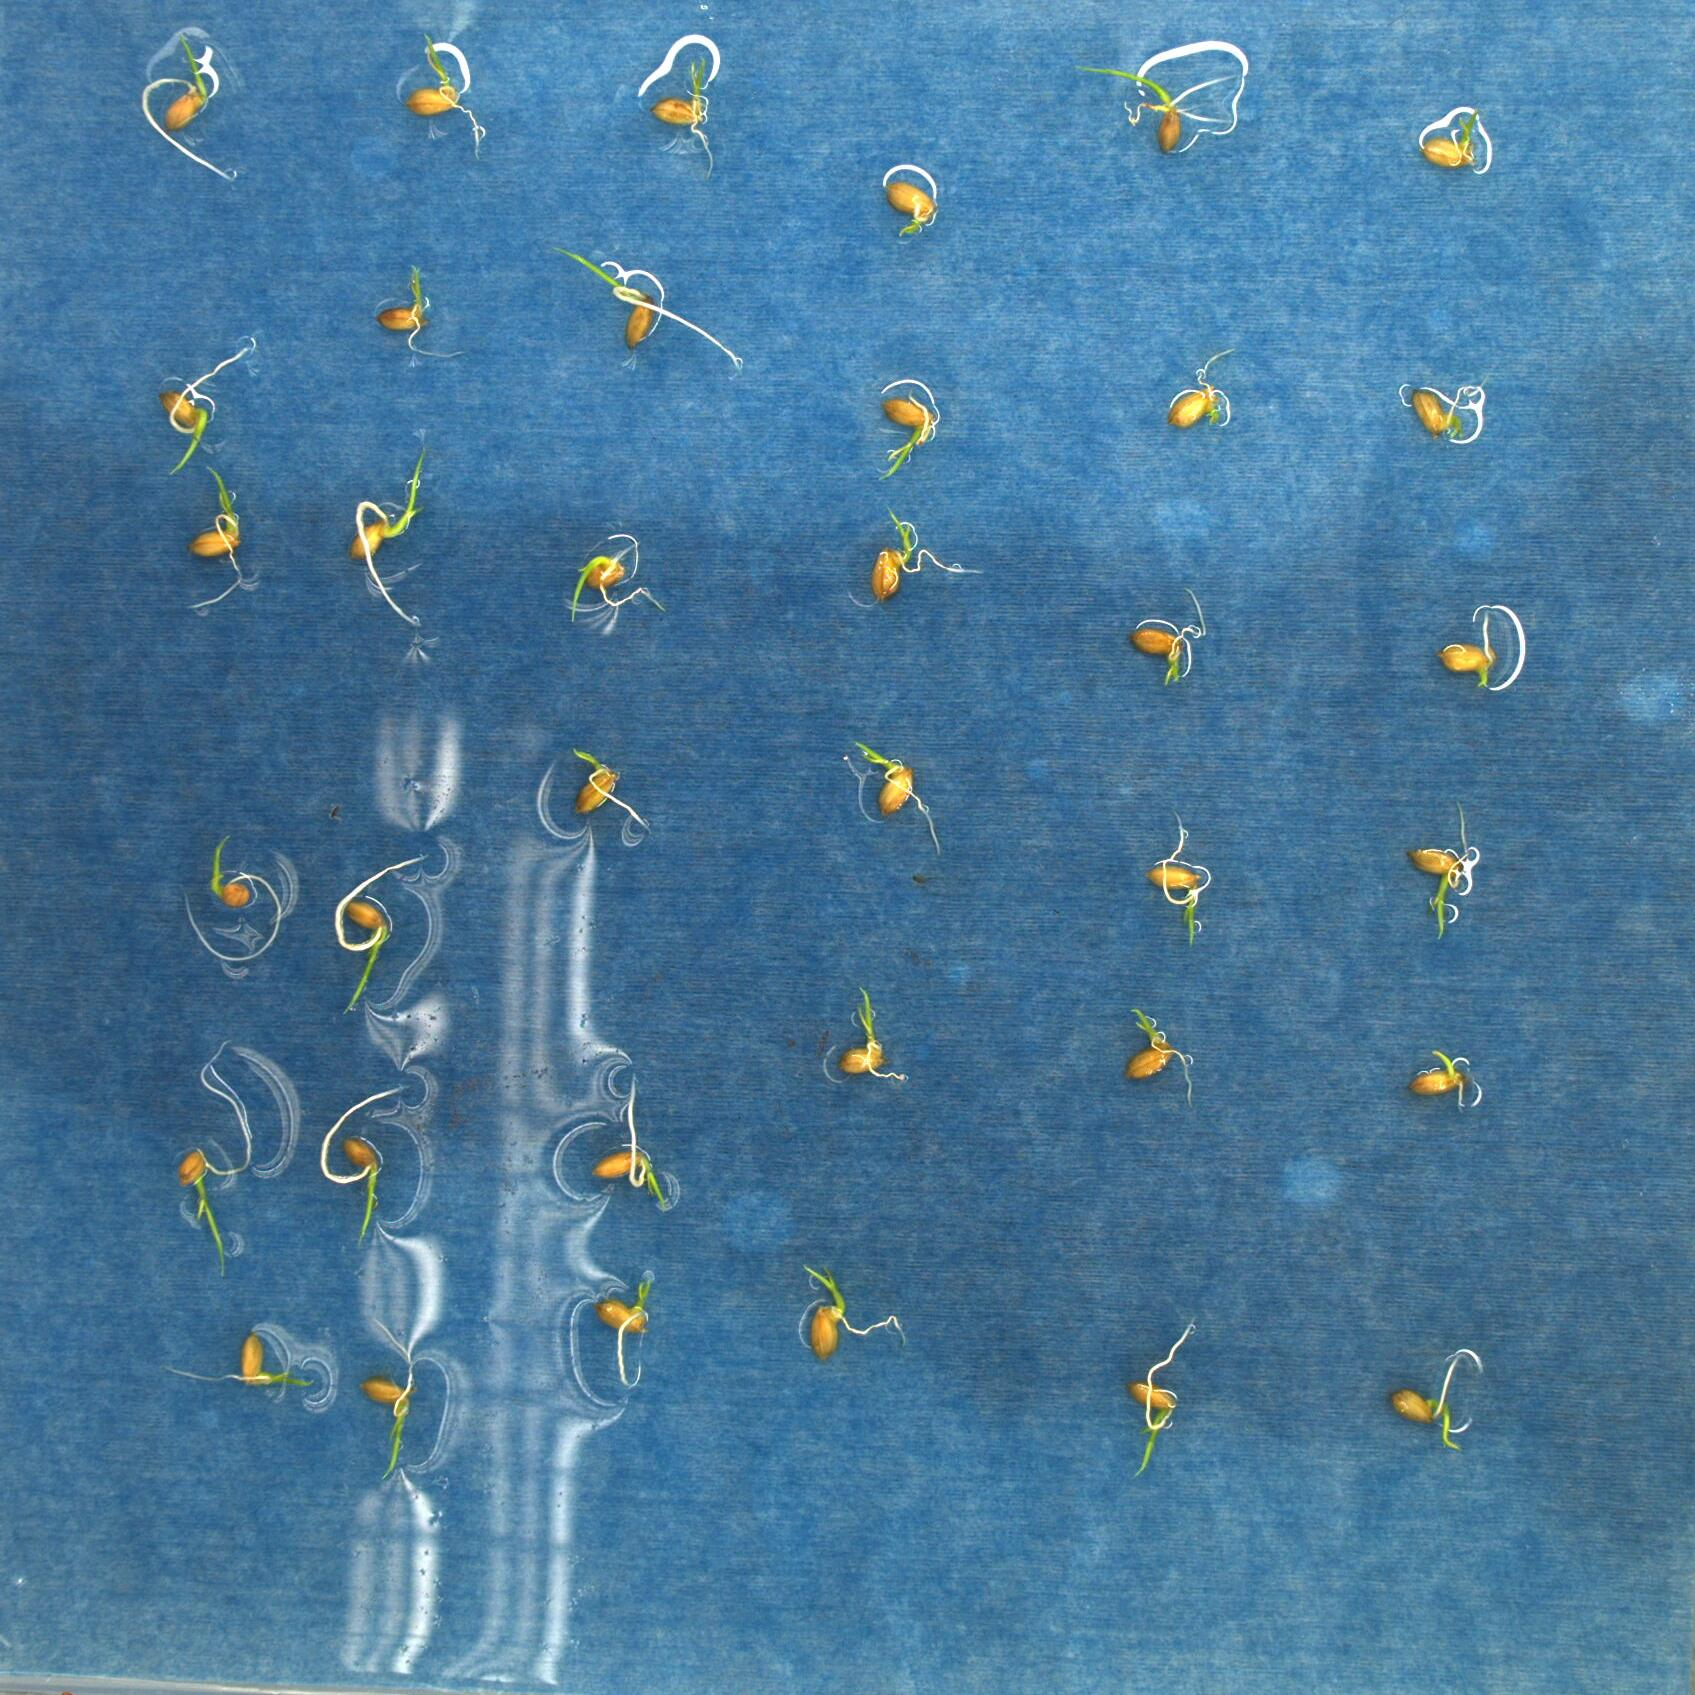sprout: (553, 244, 740, 366), (177, 1037, 251, 1281), (335, 854, 432, 1015), (348, 445, 430, 627), (1074, 61, 1234, 152), (320, 1083, 408, 1248), (141, 33, 233, 185), (182, 832, 284, 959), (154, 345, 248, 478), (1125, 1313, 1198, 1484), (591, 1069, 667, 1208), (854, 739, 944, 855), (871, 508, 981, 601), (802, 1263, 908, 1360), (1405, 801, 1475, 941), (405, 31, 484, 154), (1144, 809, 1212, 945), (158, 1330, 317, 1386), (185, 466, 245, 612), (571, 531, 664, 622), (1132, 585, 1208, 691), (377, 265, 464, 357), (1388, 1350, 1465, 1453), (365, 1316, 413, 1479), (650, 51, 712, 177), (1122, 1007, 1197, 1104), (571, 745, 652, 834), (598, 1271, 655, 1391), (835, 984, 905, 1080), (1167, 345, 1243, 432), (877, 390, 938, 480), (1440, 610, 1495, 688), (1420, 107, 1481, 172), (1412, 383, 1481, 441), (1414, 1046, 1471, 1111), (882, 182, 941, 234)
